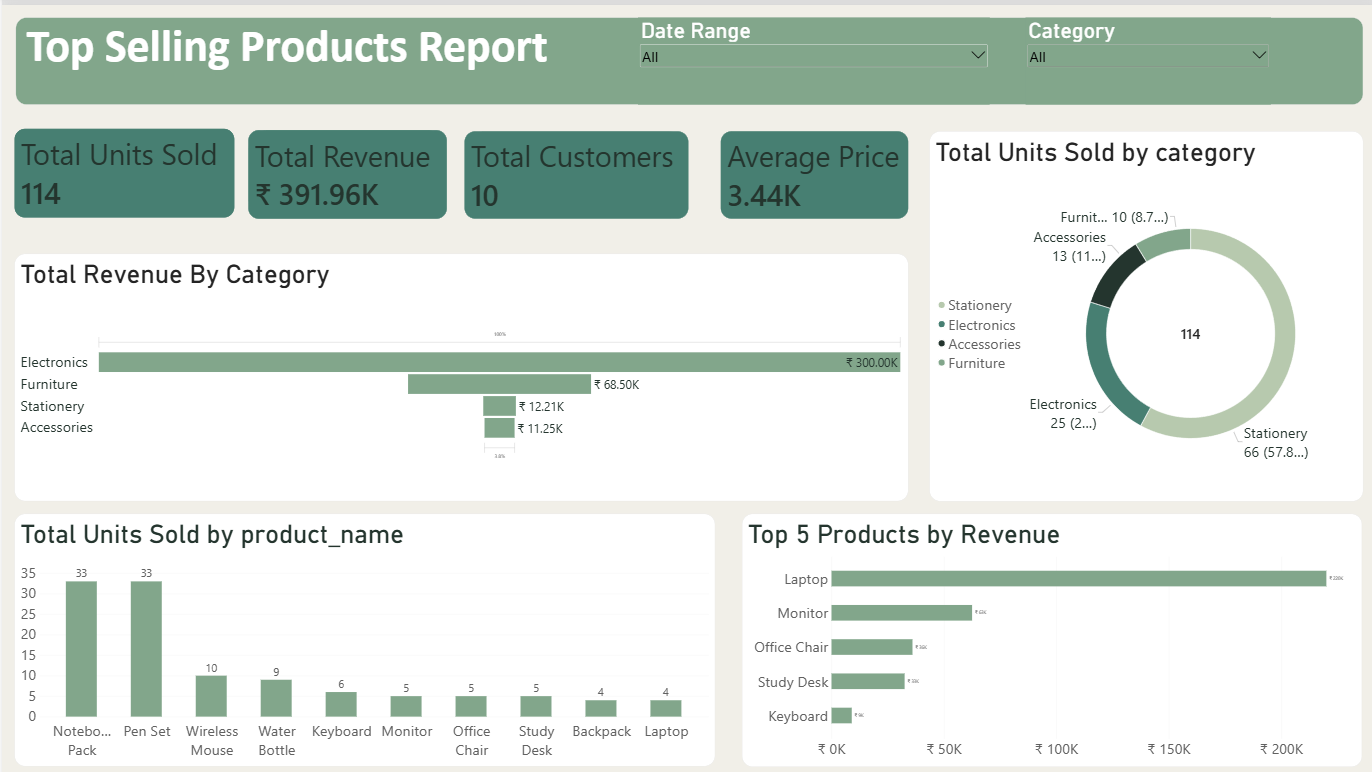

What the dashboard file says about the page in this screenshot:
{"tool":"powerbi","page":{"name":"Product Report Analysis","canvas":[3840,2160],"ordinal":1},"visuals":[{"type":"cardVisual","fields":{"Data":["public order_items.Total Units Sold"]},"box":[34.9,345.3,614,247.7],"z":0},{"type":"textbox","box":[36.7,33.3,3760,243.3],"z":1000},{"type":"cardVisual","title":"Total Customers","fields":{"Data":["public customers.total customers"]},"box":[1290.7,352.3,624.4,244.2],"z":2000},{"type":"cardVisual","fields":{"Data":["public order_items.Average Price"]},"box":[2005.8,352.3,523.3,244.2],"z":3000},{"type":"funnel","title":"Total Revenue By Category","fields":{"Category":["public products.category"],"Y":["public order_items.Total Revenue"]},"box":[34.9,694.2,2494.2,690.7],"z":4000},{"type":"cardVisual","fields":{"Data":["public order_items.Total Revenue"]},"box":[687.2,348.8,554.7,247.7],"z":5000},{"type":"donutChart","fields":{"Category":["public products.category"],"Y":["public order_items.Total Units Sold"]},"box":[2588.4,352.3,1210.5,1032.6],"z":6000},{"type":"clusteredColumnChart","fields":{"Category":["public products.product_name"],"Y":["public order_items.Total Units Sold"]},"box":[35,1420,1955,705],"z":7000},{"type":"barChart","title":"Top 5 Products by Revenue","fields":{"Category":["public products.product_name"],"Y":["public order_items.Total Revenue"]},"box":[2066,1420,1730,706],"z":8000},{"type":"slicer","fields":{"Values":["DateTable.Month"]},"box":[1776.7,33.3,980,243.3],"z":9000},{"type":"slicer","fields":{"Values":["public products.category"]},"box":[2856.7,33.3,683.3,243.3],"z":10000}]}

Visuals, with their boxes in screenshot pixels (x1, y1, x2, y2), scaled from the page's 3840x2160 canvas onto the 1372x772 screenshot:
cardVisual - public order_items.Total Units Sold: x1=12, y1=123, x2=232, y2=212
textbox: x1=13, y1=12, x2=1357, y2=99
"Total Customers" cardVisual: x1=461, y1=126, x2=684, y2=213
cardVisual - public order_items.Average Price: x1=717, y1=126, x2=904, y2=213
"Total Revenue By Category" funnel: x1=12, y1=248, x2=904, y2=495
cardVisual - public order_items.Total Revenue: x1=246, y1=125, x2=444, y2=213
donutChart - public products.category x public order_items.Total Units Sold: x1=925, y1=126, x2=1357, y2=495
clusteredColumnChart - public products.product_name x public order_items.Total Units Sold: x1=13, y1=508, x2=711, y2=759
"Top 5 Products by Revenue" barChart: x1=738, y1=508, x2=1356, y2=760
slicer - DateTable.Month: x1=635, y1=12, x2=985, y2=99
slicer - public products.category: x1=1021, y1=12, x2=1265, y2=99
